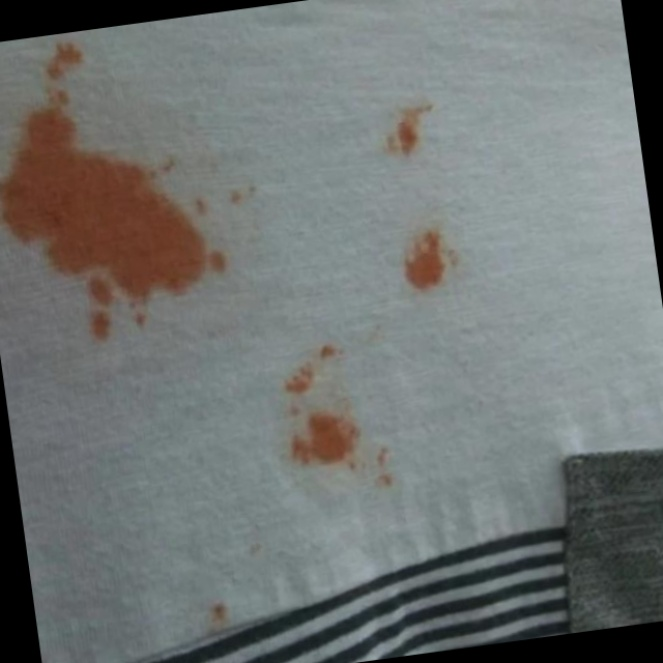kimchi: (0, 15, 278, 357), (244, 333, 409, 509), (386, 213, 487, 321), (373, 84, 445, 177), (193, 585, 252, 631), (228, 532, 278, 569)
